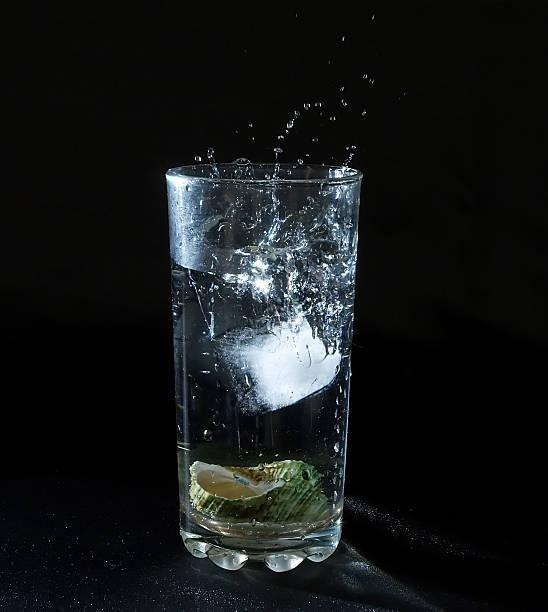glass-normal: (161, 158, 366, 577)
